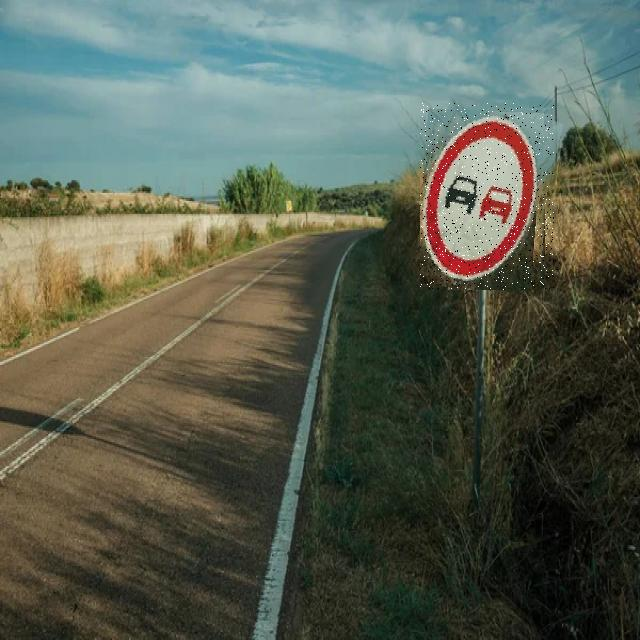no overtaking: (420, 103, 554, 290)
